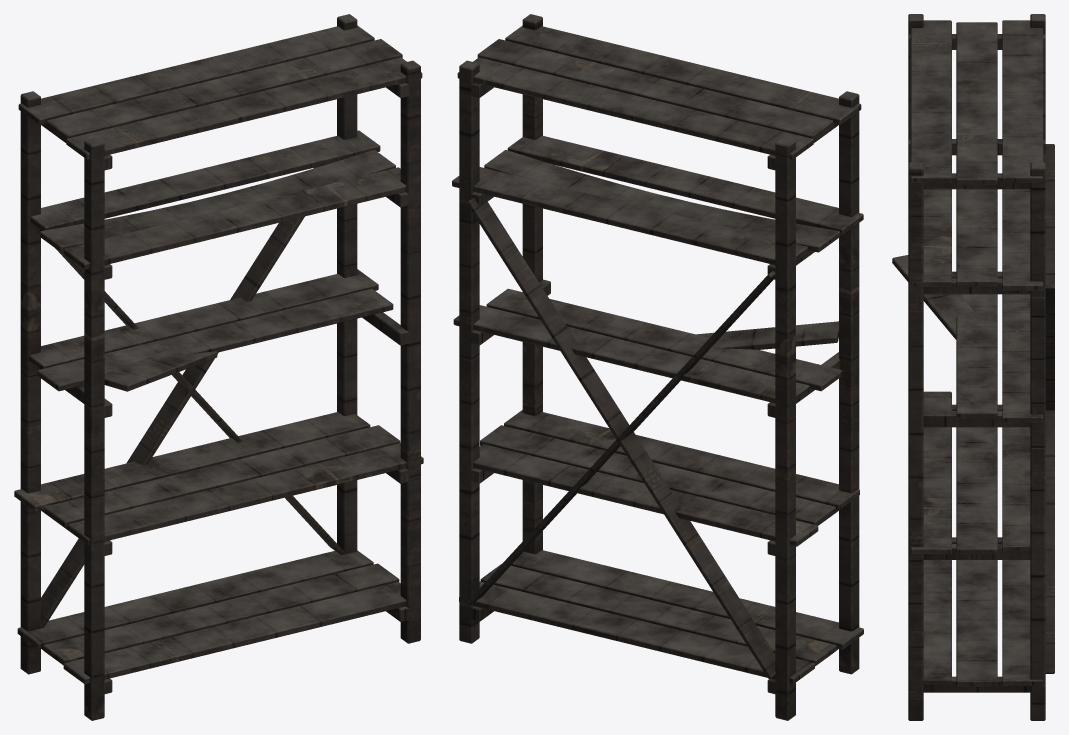
Rendered from Shelf_Wood.fbx.
3 renders of one model, left to right at view 1: azimuth 30°, elevation 25°; view 2: azimuth 150°, elevation 25°; view 3: azimuth 270°, elevation 25°, orthographic. The views are drawn at different scales.
Parts seen in each view (by area): view 1: Shelf_Wood_Mesh; view 2: Shelf_Wood_Mesh; view 3: Shelf_Wood_Mesh.
Part boxes in pixels (<box>): Shelf_Wood_Mesh: <box>14,14,423,720</box>; Shelf_Wood_Mesh: <box>452,14,863,720</box>; Shelf_Wood_Mesh: <box>892,14,1054,720</box>.
Bounding box in the file's own units: 1.26 × 2 × 0.5332.
